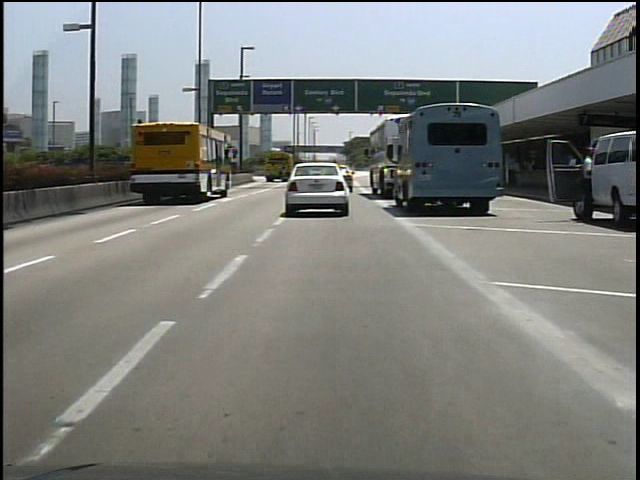person: (577, 139, 595, 227)
